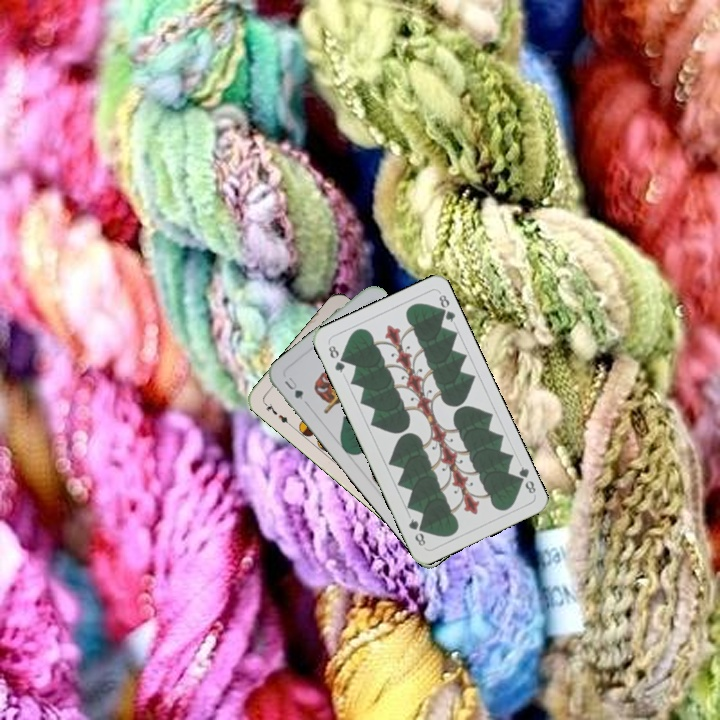E7: (260, 399, 294, 429)
G8: (511, 462, 539, 496), (324, 341, 348, 376)
GU: (280, 373, 306, 402)
